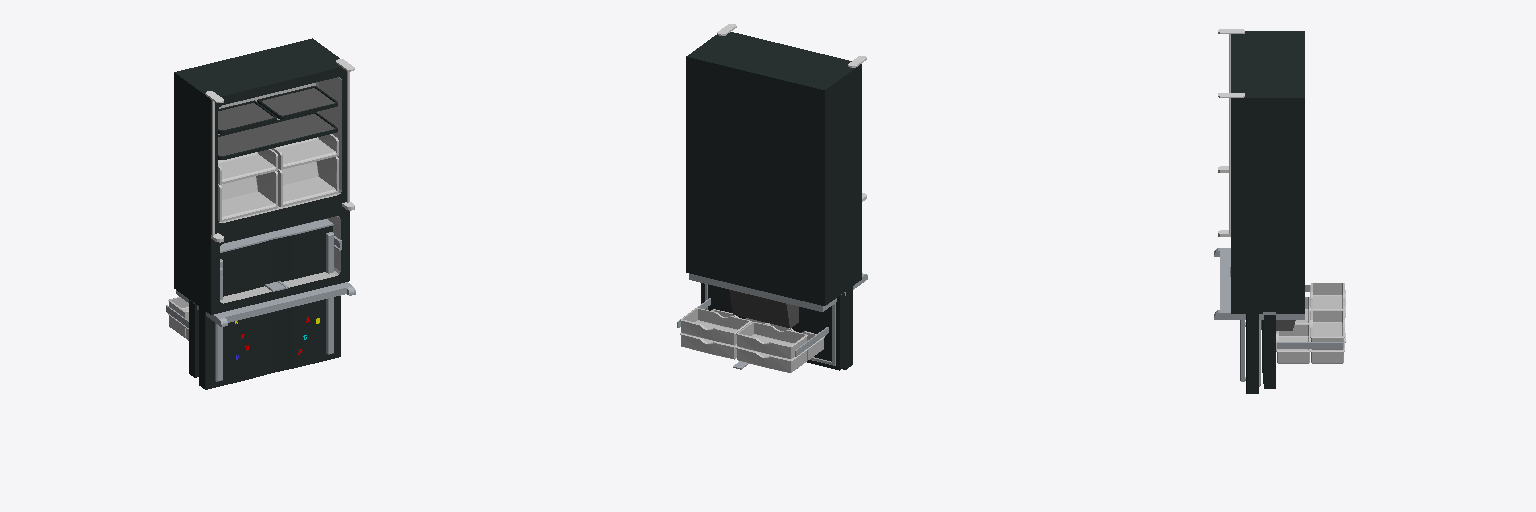
The picture shows the model from 3 angles: view 1: azimuth 30°, elevation 25°; view 2: azimuth 150°, elevation 25°; view 3: azimuth 270°, elevation 25°; orthographic projection.
Parts seen in each view (by area): view 1: FridgeBodyMesh_0, Mesh_6, Mesh_7, fridge_freezerdoor_18_5; view 2: FridgeBodyMesh_0, fridge_freezerdoor_18_5, fridge_drawer3_18_3, Mesh_7; view 3: FridgeBodyMesh_0, fridge_freezerdoor_18_5, Mesh_6.
Part boxes in pixels (bbox=[...]): FridgeBodyMesh_0: bbox=[174, 38, 355, 326]; Mesh_6: bbox=[269, 219, 340, 372]; Mesh_7: bbox=[199, 233, 272, 389]; fridge_freezerdoor_18_5: bbox=[166, 297, 198, 377]; FridgeBodyMesh_0: bbox=[686, 24, 867, 311]; fridge_freezerdoor_18_5: bbox=[677, 283, 844, 372]; fridge_drawer3_18_3: bbox=[733, 291, 798, 328]; Mesh_7: bbox=[842, 286, 852, 369]; FridgeBodyMesh_0: bbox=[1214, 29, 1304, 319]; fridge_freezerdoor_18_5: bbox=[1262, 283, 1345, 388]; Mesh_6: bbox=[1240, 314, 1260, 393].
Size of the model in its own units: 1.33 by 3.53 by 1.09.
7 materials, 1 textured.